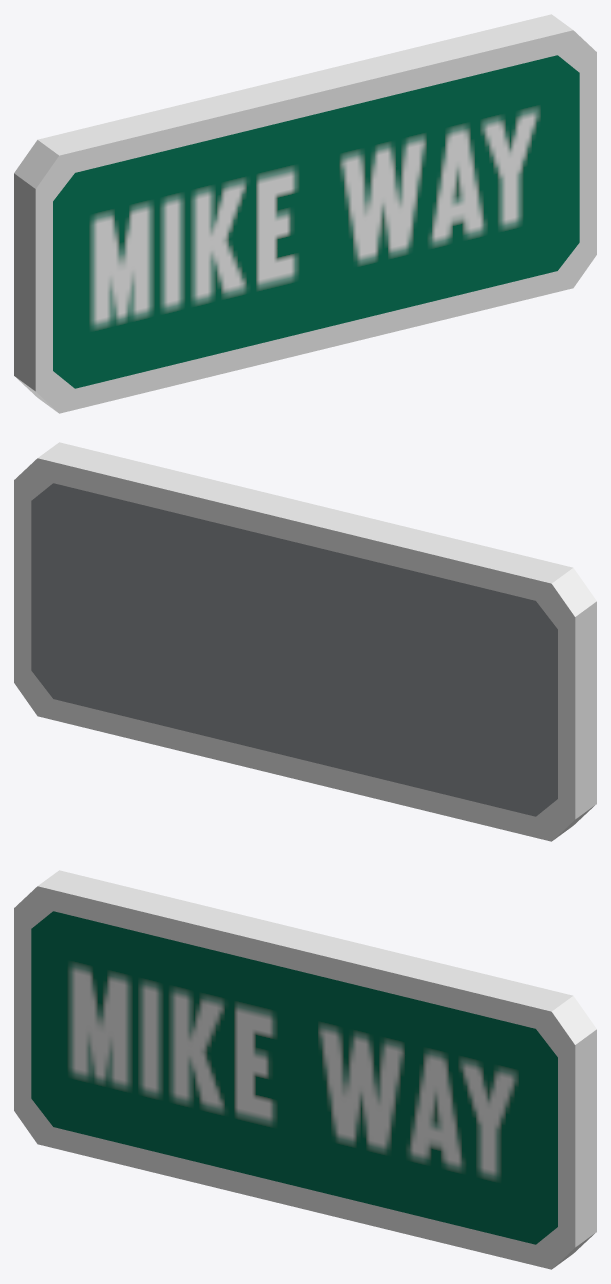
Rendered from SM_Prop_StreetSign_04.fbx.
3 renders of one model, top to bottom at view 1: azimuth 30°, elevation 25°; view 2: azimuth 150°, elevation 25°; view 3: azimuth 330°, elevation 25°, orthographic.
Visible parts, largest first — view 1: SM_Prop_StreetSign_04; view 2: SM_Prop_StreetSign_04; view 3: SM_Prop_StreetSign_04.
Part boxes in pixels (x1,y1,x2,y2): SM_Prop_StreetSign_04: [14, 14, 596, 413]; SM_Prop_StreetSign_04: [14, 442, 596, 841]; SM_Prop_StreetSign_04: [14, 870, 596, 1269].
Size of the model in its own units: 65.4 by 28.74 by 4.4.
